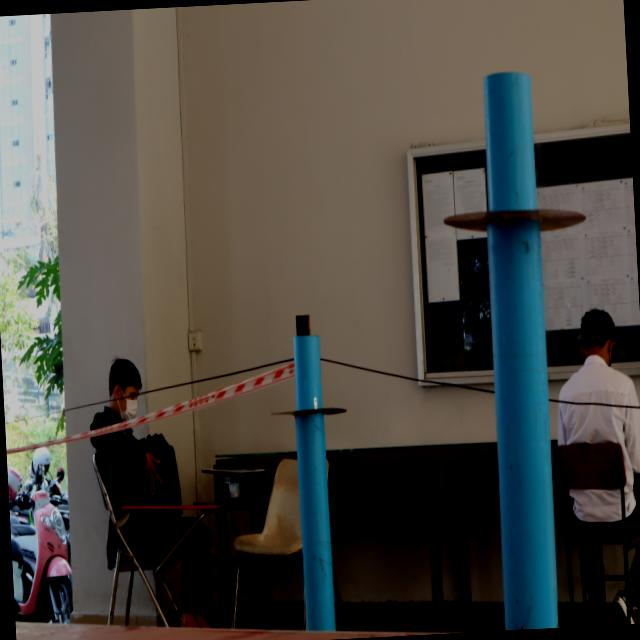pole: (426, 53, 596, 350), (260, 321, 361, 503)
